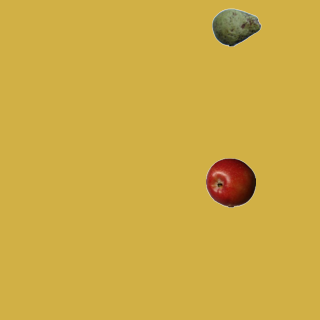Apple Braeburn: (205, 157, 255, 207)
Pear Stone: (211, 2, 261, 52)
